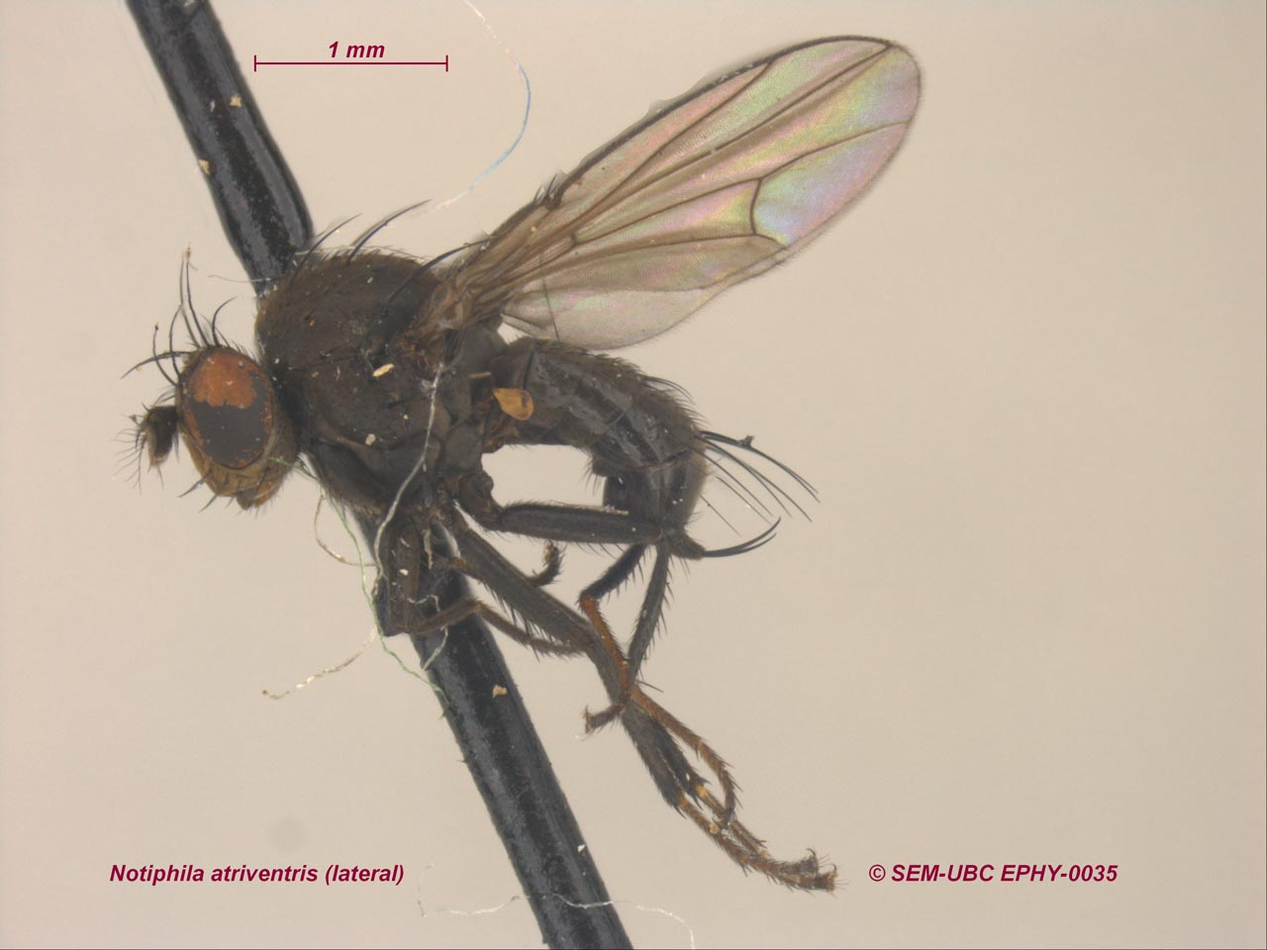Ephydridae: (120, 21, 924, 891)
